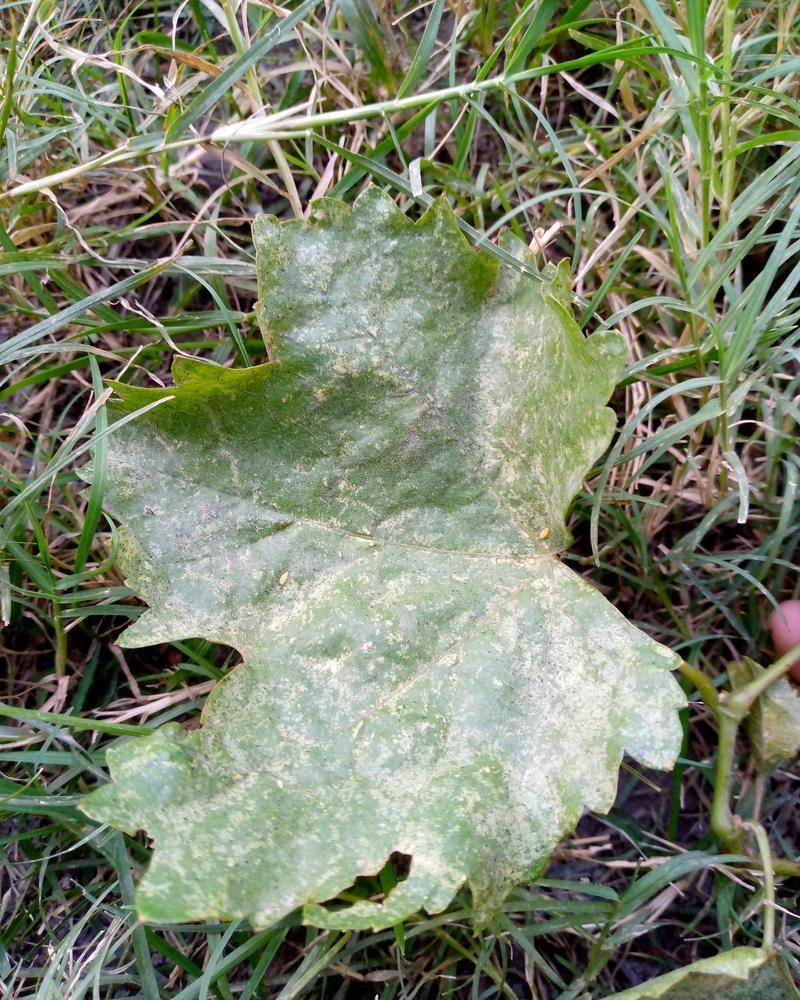Powdery-Mildew: (266, 578, 691, 913), (322, 290, 559, 583), (93, 642, 305, 911), (96, 421, 297, 652), (288, 228, 446, 391)
